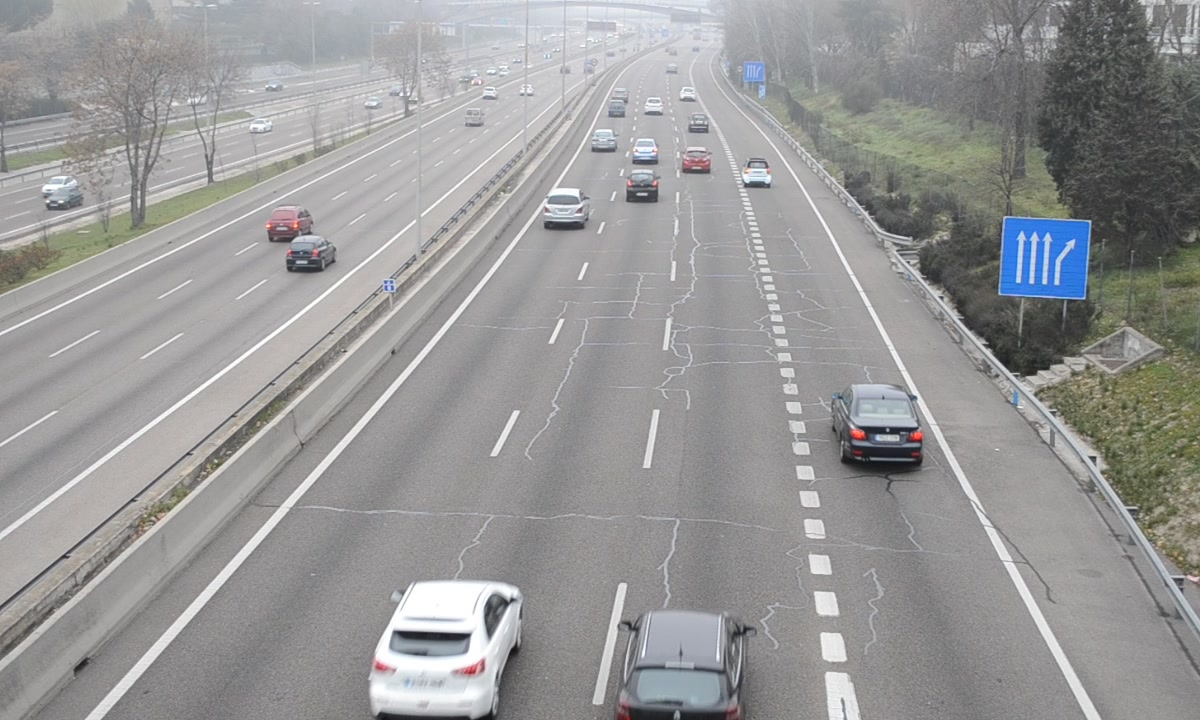car: (370, 577, 526, 720), (614, 610, 747, 720), (835, 380, 929, 468), (540, 187, 590, 231), (623, 170, 660, 205), (741, 156, 774, 189), (681, 146, 712, 176), (589, 129, 620, 153), (631, 137, 658, 164), (687, 113, 710, 134)
